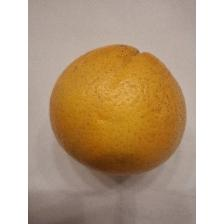Orange: (48, 42, 188, 176)
